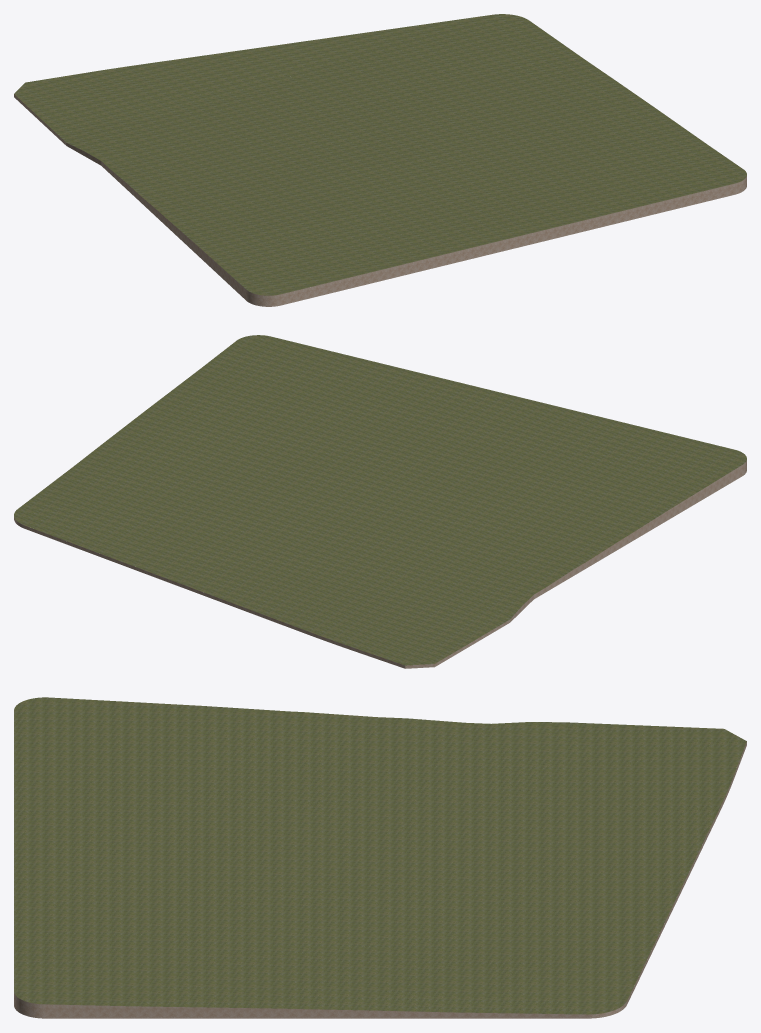
The model's file is plot1.gltf.
3 renders of one model, top to bottom at view 1: azimuth 30°, elevation 25°; view 2: azimuth 150°, elevation 25°; view 3: azimuth 270°, elevation 25°, orthographic. The views are drawn at different scales.
Parts seen in each view (by area): view 1: Grass - Brown, Stonework - Gravel; view 2: Grass - Brown, Stonework - Gravel; view 3: Grass - Brown, Stonework - Gravel.
Boxes of the visible parts, <box> form: Grass - Brown: <box>14,14,746,295</box>; Stonework - Gravel: <box>14,94,746,306</box>; Grass - Brown: <box>14,335,746,665</box>; Stonework - Gravel: <box>14,460,746,668</box>; Grass - Brown: <box>14,697,746,1014</box>; Stonework - Gravel: <box>14,742,746,1018</box>.
Size of the model in its own units: 162 by 3.5 by 164.
2 materials, 2 textured.
